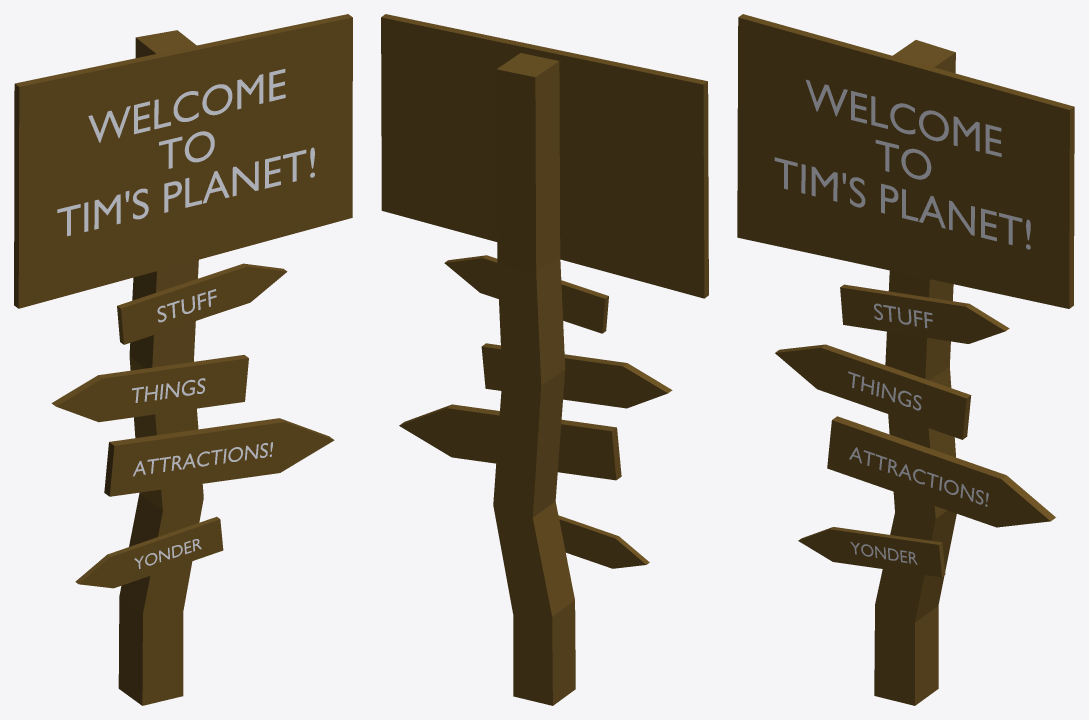
File: planet_sign.glb
The picture shows the model from 3 angles, left to right: view 1: azimuth 30°, elevation 25°; view 2: azimuth 150°, elevation 25°; view 3: azimuth 330°, elevation 25°; orthographic projection. The views are drawn at different scales.
Visible parts, largest first — view 1: welcome_sign, og_welcome_to_tims_planet.001, og_attractions.001; view 2: welcome_sign; view 3: welcome_sign, og_welcome_to_tims_planet.001, og_attractions.001.
Boxes of the visible parts, x1,y1,x2,y2 form: welcome_sign: (14,14,352,705); og_welcome_to_tims_planet.001: (57,69,314,236); og_attractions.001: (133,442,272,476); welcome_sign: (381,14,708,705); welcome_sign: (737,14,1074,705); og_welcome_to_tims_planet.001: (774,79,1030,249); og_attractions.001: (849,447,988,506).
Bounding box in the file's own units: 6.53 × 12.23 × 1.09.
